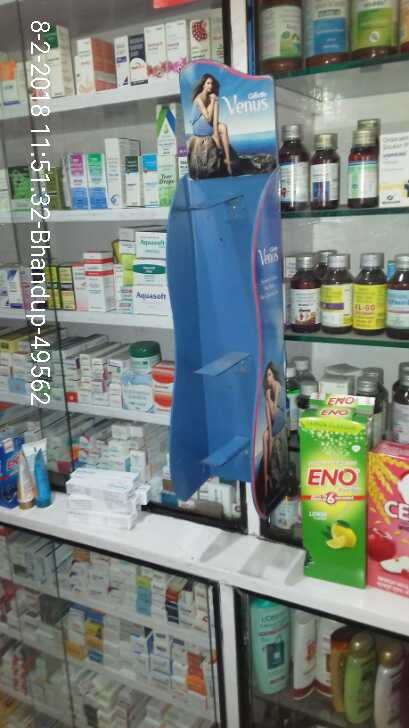reject: (159, 214, 252, 466)
